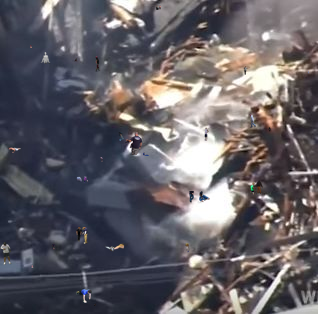Human: (97, 240, 137, 252), (249, 113, 272, 132), (74, 56, 101, 72), (125, 132, 142, 155), (189, 191, 210, 207), (0, 242, 12, 265), (181, 239, 198, 254), (76, 289, 92, 303), (76, 227, 88, 244), (40, 52, 51, 64), (256, 180, 263, 194), (76, 176, 88, 183), (241, 66, 250, 75), (8, 147, 21, 153), (183, 81, 191, 90), (204, 127, 209, 141), (250, 182, 255, 195), (118, 132, 124, 141), (153, 5, 161, 10), (143, 152, 149, 156), (52, 243, 55, 250), (100, 157, 103, 162), (30, 265, 34, 268), (305, 76, 307, 79), (94, 303, 96, 306), (30, 45, 32, 48), (308, 71, 309, 74), (57, 16, 58, 19)
